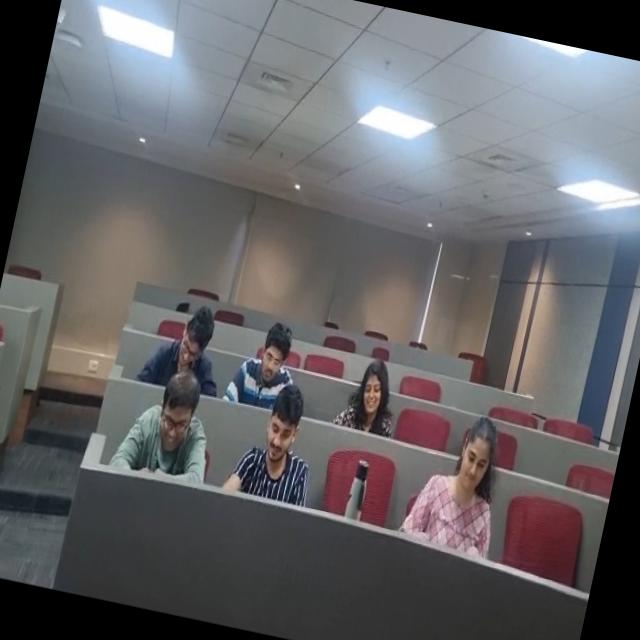cheating: (115, 354, 232, 499), (223, 374, 339, 520), (334, 351, 416, 437)
non-cheating: (413, 402, 522, 538), (146, 287, 240, 396), (230, 304, 316, 410)
